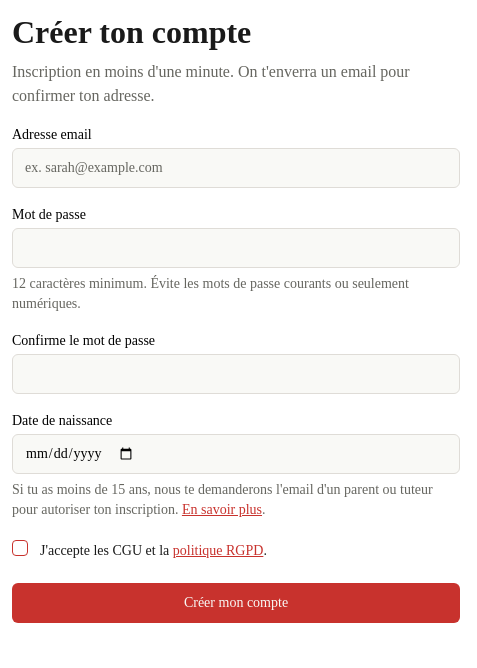
it: SignupForm › blocks submit when consent checkbox is unchecked and surfaces the consent error
This screenshot has width=477, height=668.
In the field labelled "Adresse email": [236, 168] box 12,148 -> 460,188, type "sarah@example.test"
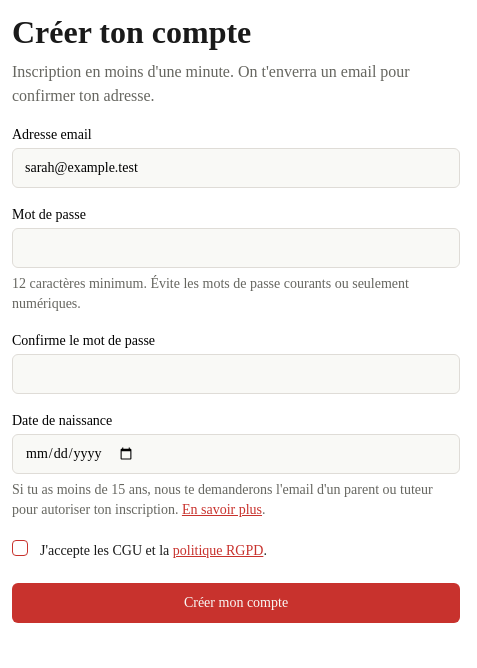
In the password field labelled "Mot de passe": [236, 248] box 12,228 -> 460,268, type "Path-Advisor-2026!"
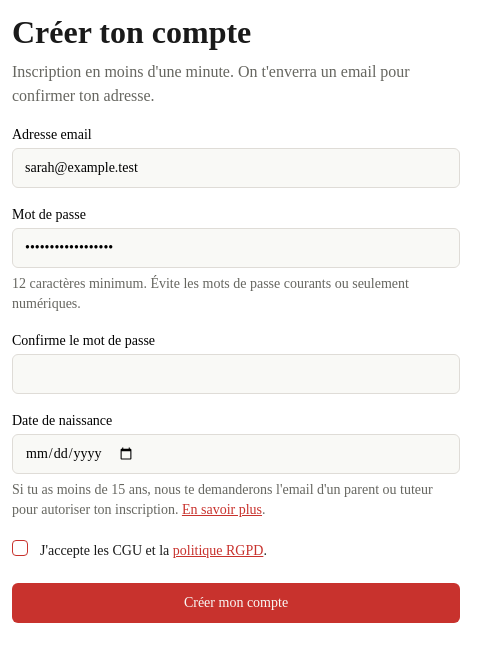
In the password field labelled "Confirme le mot de passe": [236, 374] box 12,354 -> 460,394, type "Path-Advisor-2026!"
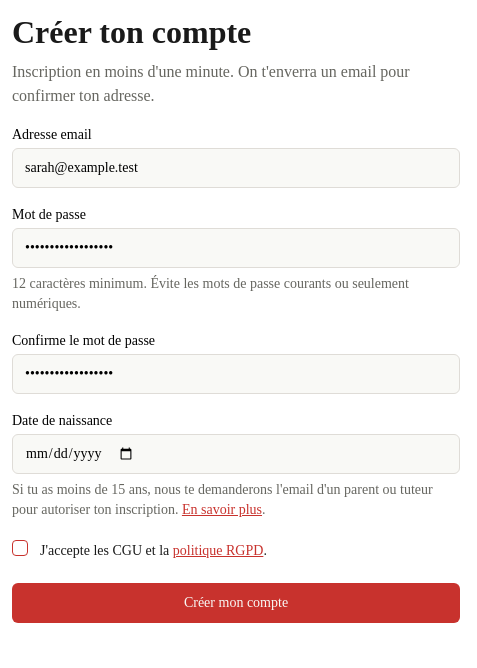
In the date field labelled "Date de naissance": [236, 454] box 12,434 -> 460,474, type "2008-01-15"
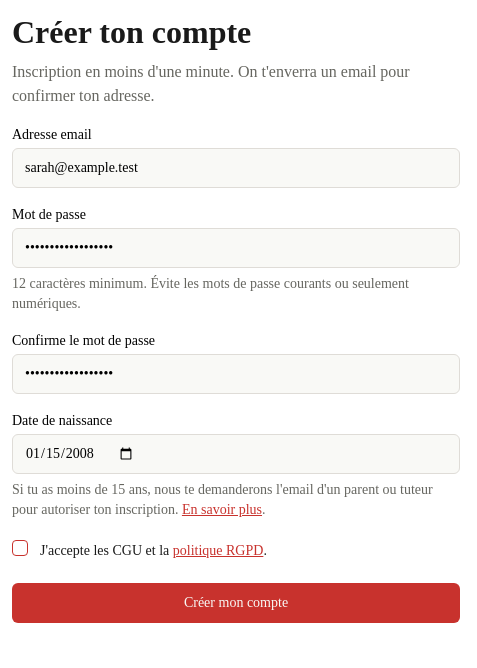
Click the button "Créer mon compte": [236, 603] box 12,583 -> 460,623
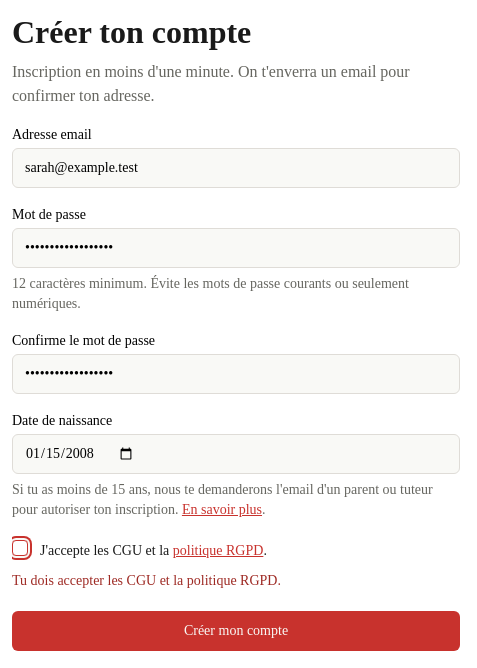
Expected: the text "Tu dois accepter les CGU et la politique RGPD." is shown, 12,573 -> 281,588
